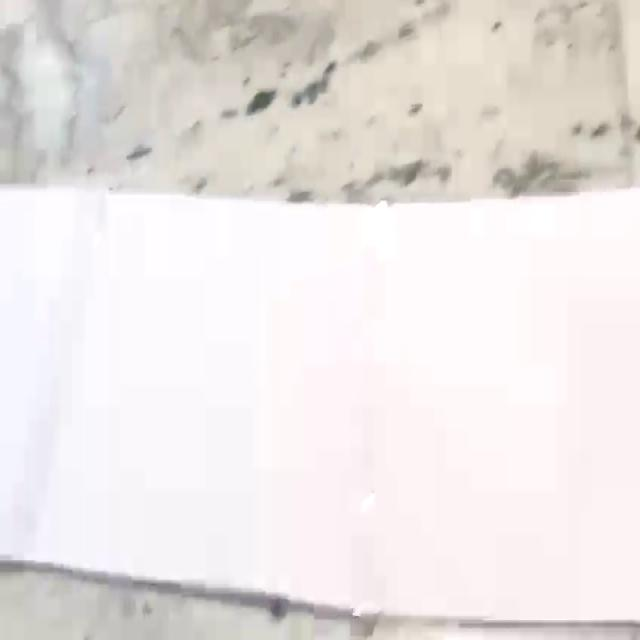road: (0, 185, 640, 640)
